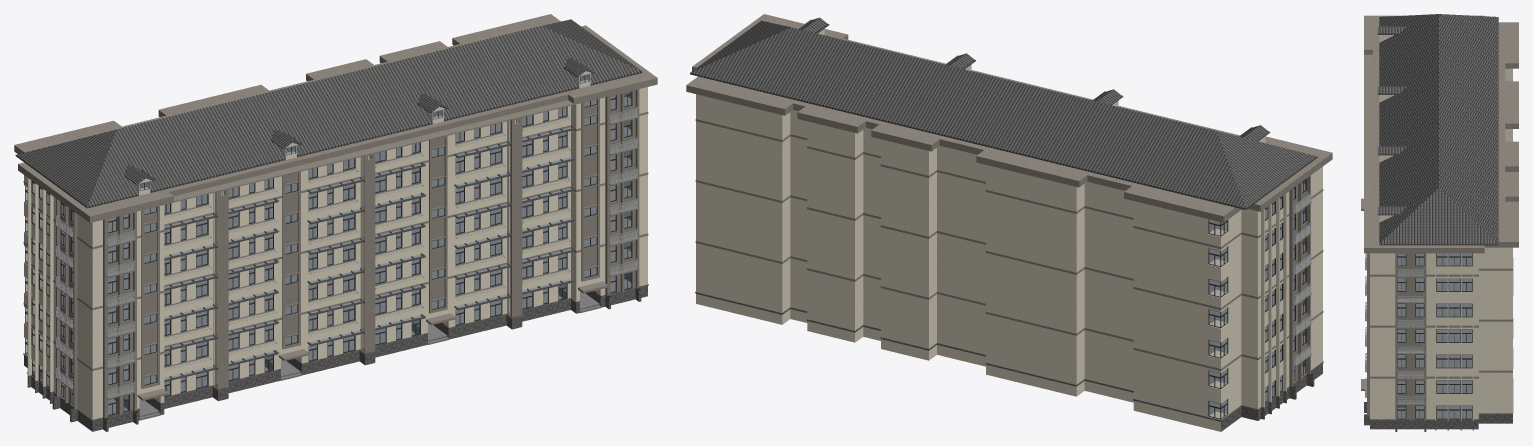
File: gzl_227.FBX
3 views of the same model, side by side, from view 1: azimuth 30°, elevation 25°; view 2: azimuth 150°, elevation 25°; view 3: azimuth 270°, elevation 25° (orthographic). The views are drawn at different scales.
Visible parts, largest first — view 1: gzl_227; view 2: gzl_227; view 3: gzl_227.
Boxes of the visible parts, x1,y1,x2,y2 form: gzl_227: (14,14,657,431); gzl_227: (686,14,1332,431); gzl_227: (1361,14,1518,431).
Bounding box in the file's own units: 54700 × 23601 × 15700.
